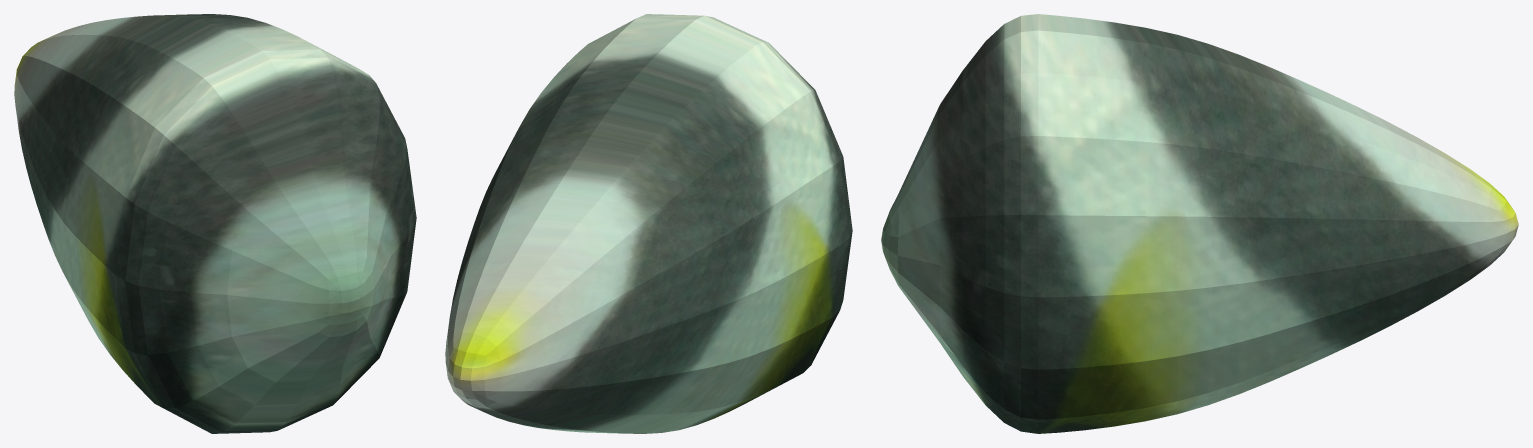
The model's file is Fish2_1.dae.
3 renders of one model, left to right at view 1: azimuth 30°, elevation 25°; view 2: azimuth 150°, elevation 25°; view 3: azimuth 270°, elevation 25°, orthographic. The views are drawn at different scales.
Parts seen in each view (by area): view 1: Cube_001; view 2: Cube_001; view 3: Cube_001.
Boxes of the visible parts, x1=… form: Cube_001: x1=14, y1=14, x2=416, y2=433; Cube_001: x1=445, y1=14, x2=852, y2=433; Cube_001: x1=881, y1=14, x2=1518, y2=433.
Size of the model in its own units: 1.52 by 2.79 by 1.87.
1 material, 1 textured.
